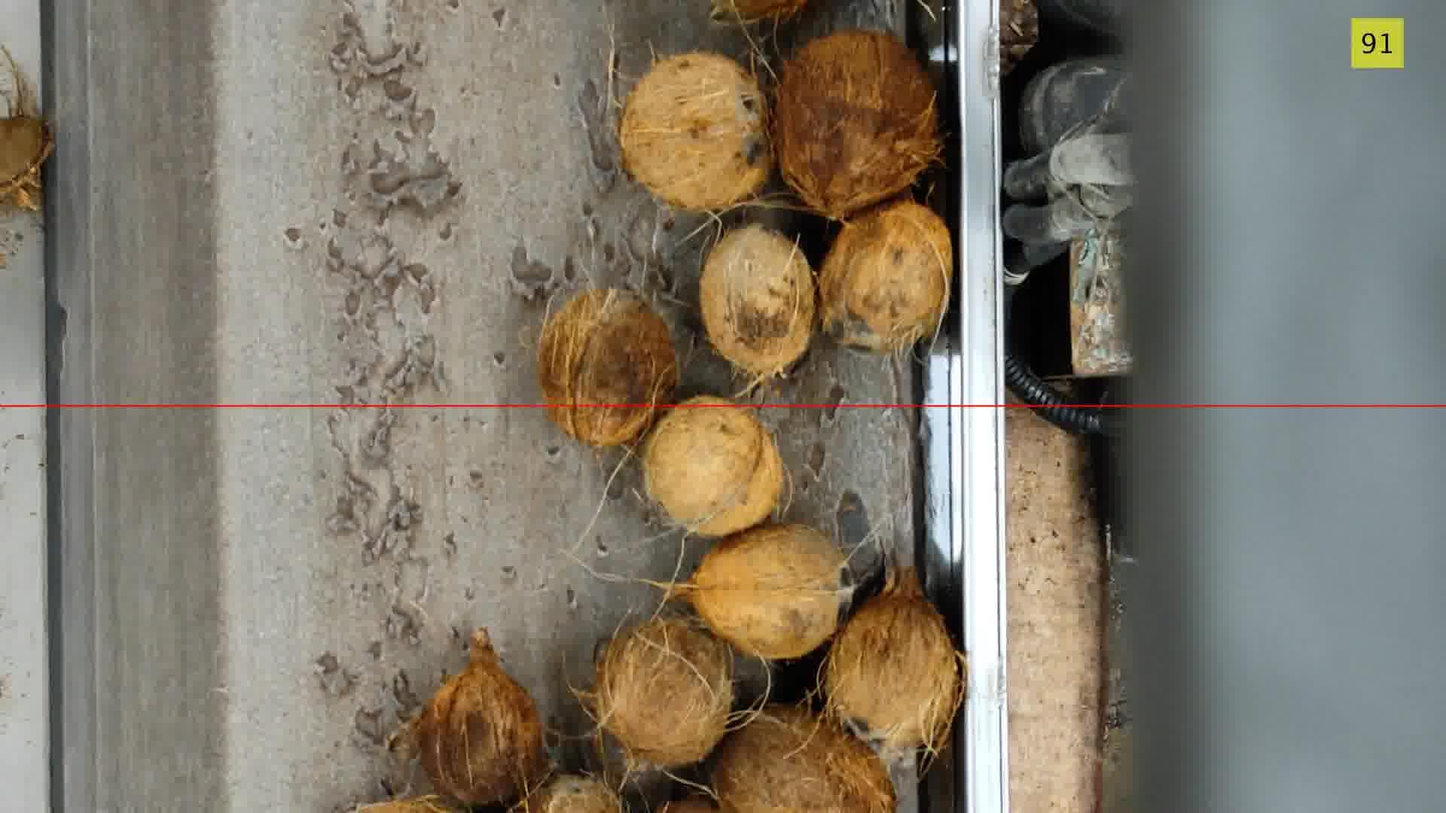Coconut: (773, 30, 941, 219), (822, 568, 966, 753), (397, 629, 548, 805), (618, 52, 773, 211), (684, 523, 851, 659), (585, 617, 734, 769), (538, 289, 678, 446), (818, 199, 953, 352), (642, 396, 784, 536), (710, 705, 895, 812), (700, 224, 816, 379), (0, 46, 53, 210), (511, 774, 624, 812), (712, 0, 808, 23), (352, 795, 465, 812), (659, 799, 718, 812)
